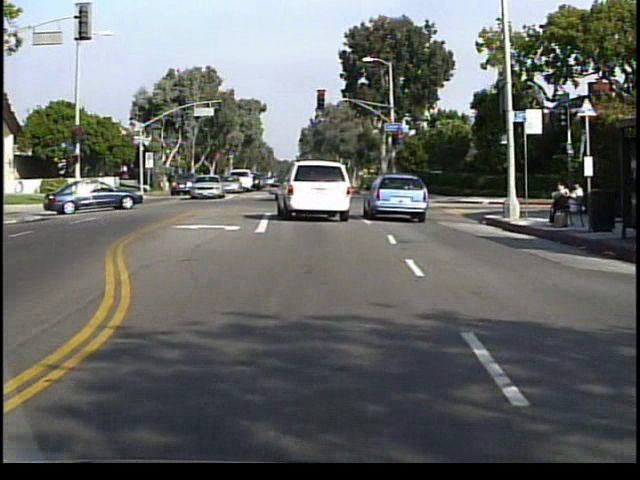person: (546, 179, 572, 228), (567, 179, 585, 227)
